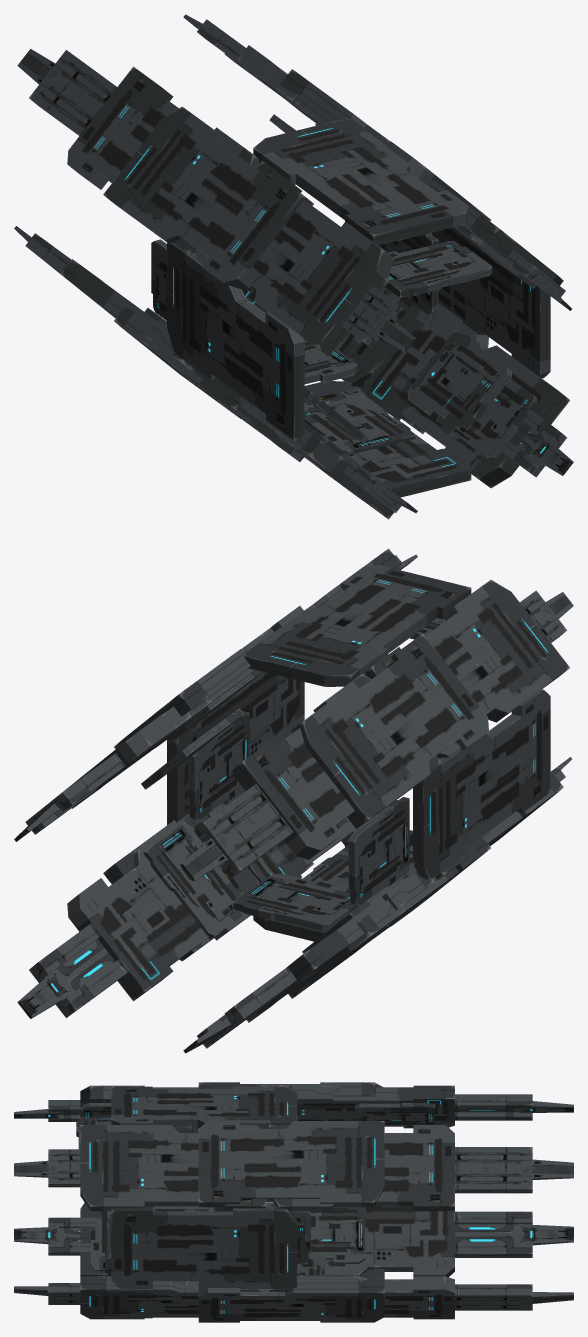
The model's file is WarpGate32_sm.gltf.
The picture shows the model from 3 angles, top to bottom: view 1: azimuth 30°, elevation 25°; view 2: azimuth 150°, elevation 25°; view 3: azimuth 270°, elevation 25°; orthographic projection. The views are drawn at different scales.
Visible parts, largest first — view 1: WarpGate32; view 2: WarpGate32; view 3: WarpGate32.
Part boxes in pixels (x1,y1,x2,y2): WarpGate32: (14, 14, 573, 519); WarpGate32: (14, 548, 573, 1053); WarpGate32: (14, 1082, 573, 1322).
Bounding box in the file's own units: 56.59 × 56.59 × 141.
1 material, 1 textured.
